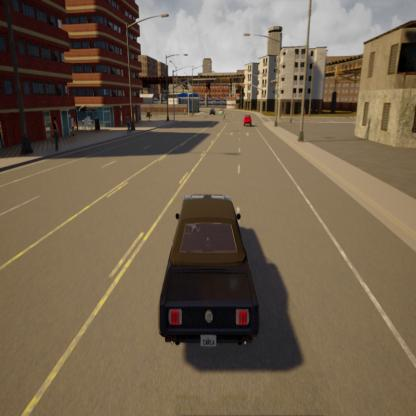Cars: (152, 154, 264, 370), (238, 113, 253, 133), (209, 106, 216, 118), (216, 106, 224, 116)
Pedestrian: (50, 115, 61, 159), (70, 121, 78, 146), (124, 111, 131, 139), (182, 106, 187, 120), (223, 110, 227, 125), (148, 110, 152, 122)
